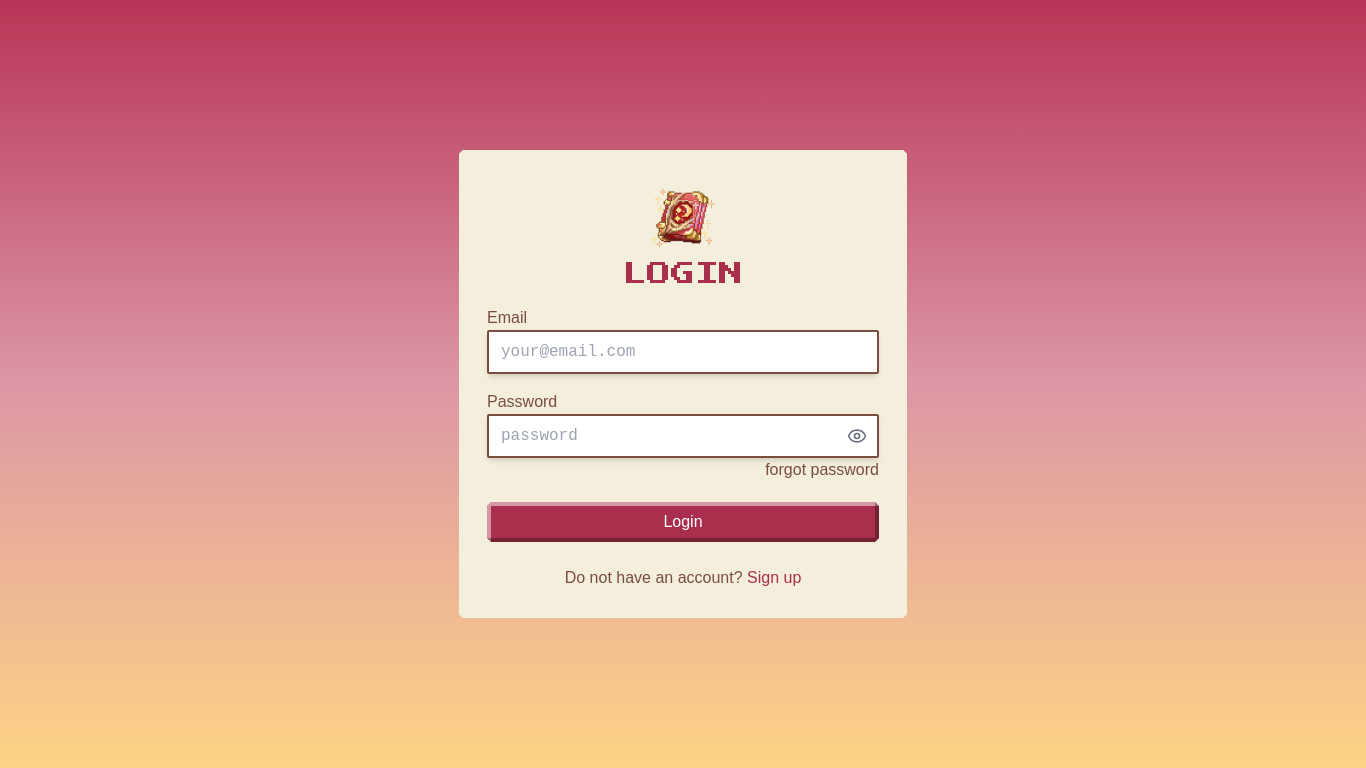
Test: LoginForm › validates email format
The image size is (1366, 768).
In the field with placeholder "your@email.com": (683, 352) 487,330 -> 879,374, type "invalid-email"
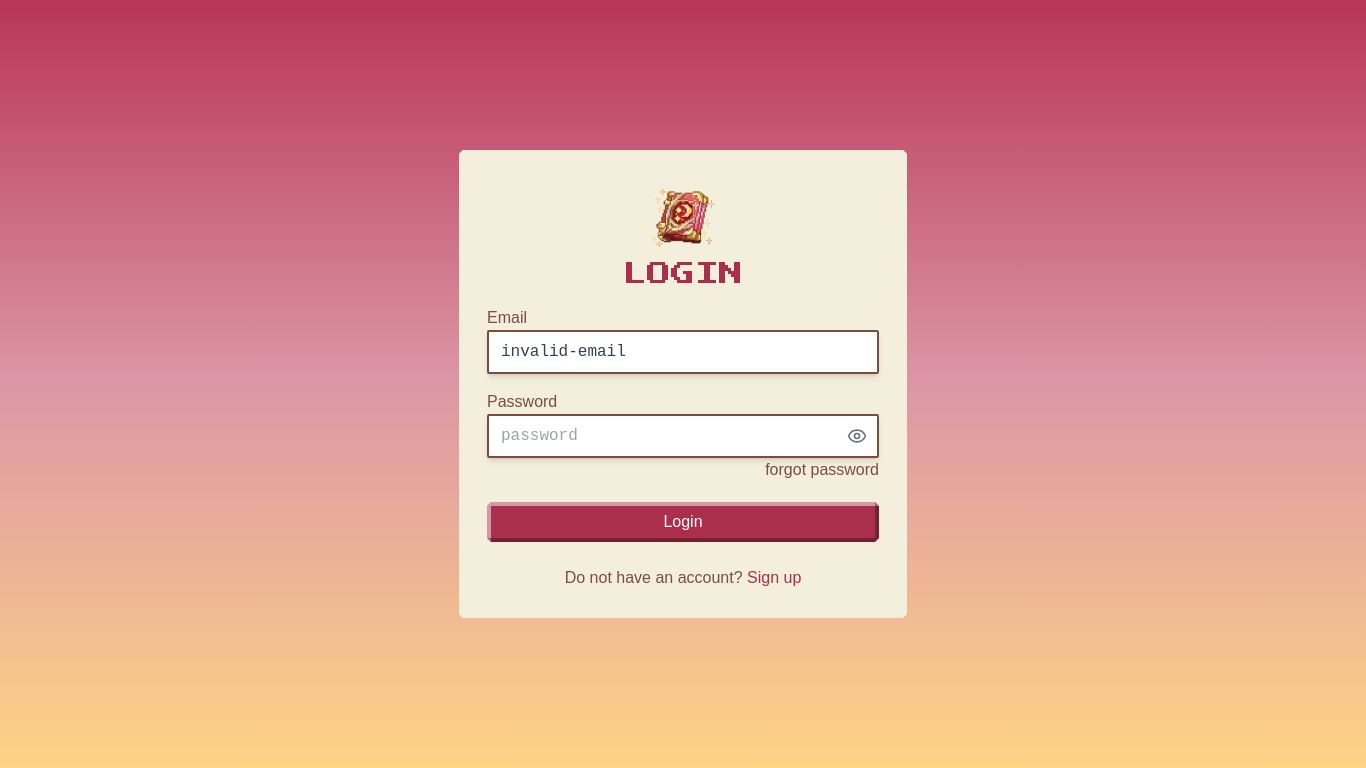
In the password field with placeholder "Password": (683, 436) 487,414 -> 879,458, type "password123"
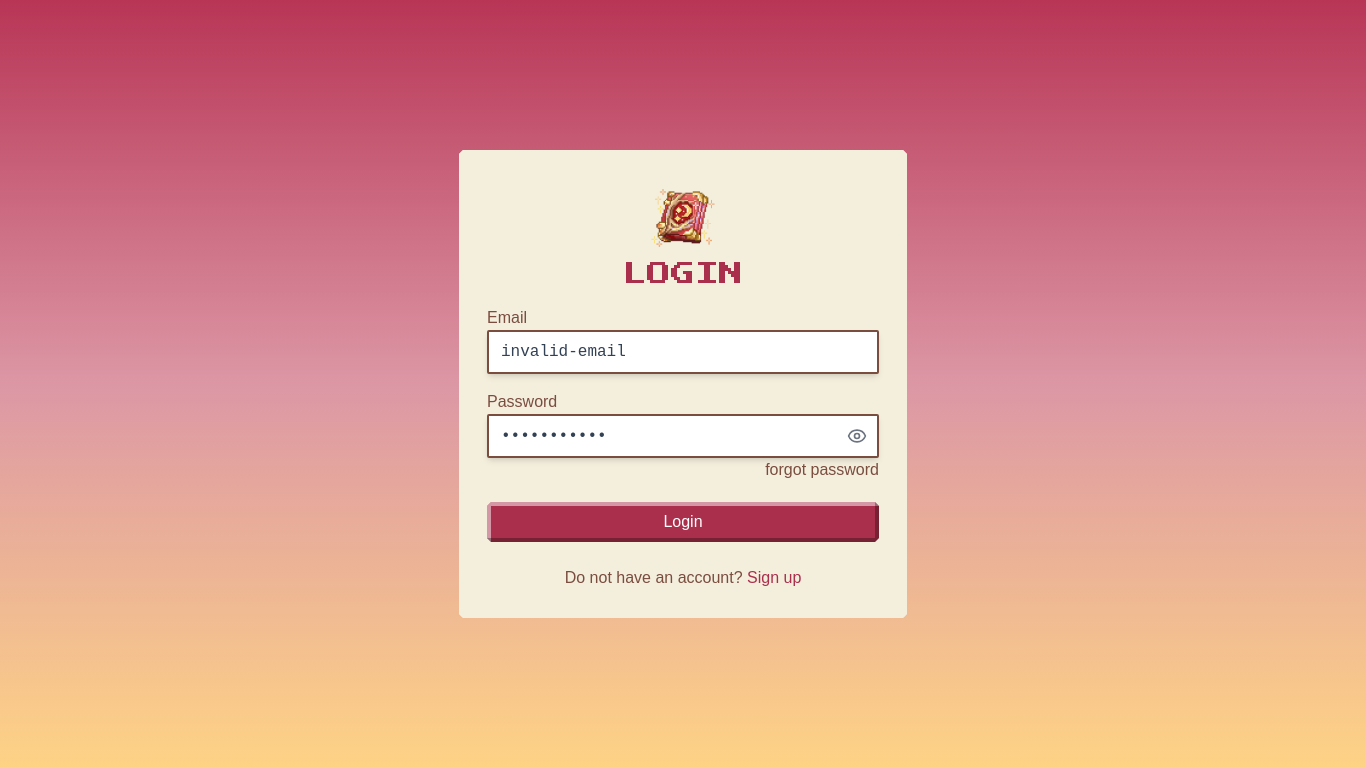
Click the button "Login": (683, 522) 487,502 -> 879,542
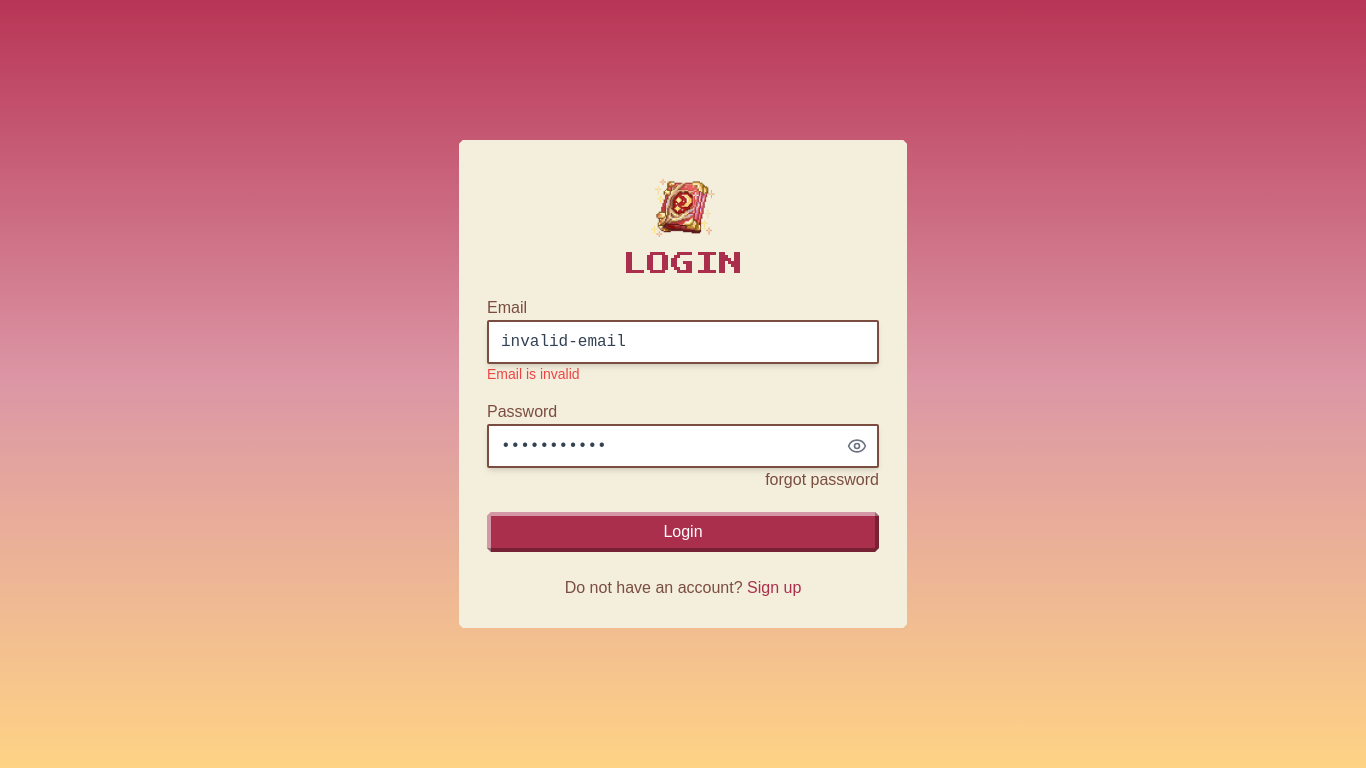
Check: the text "Email is invalid" is shown, box 487,366 -> 580,382
